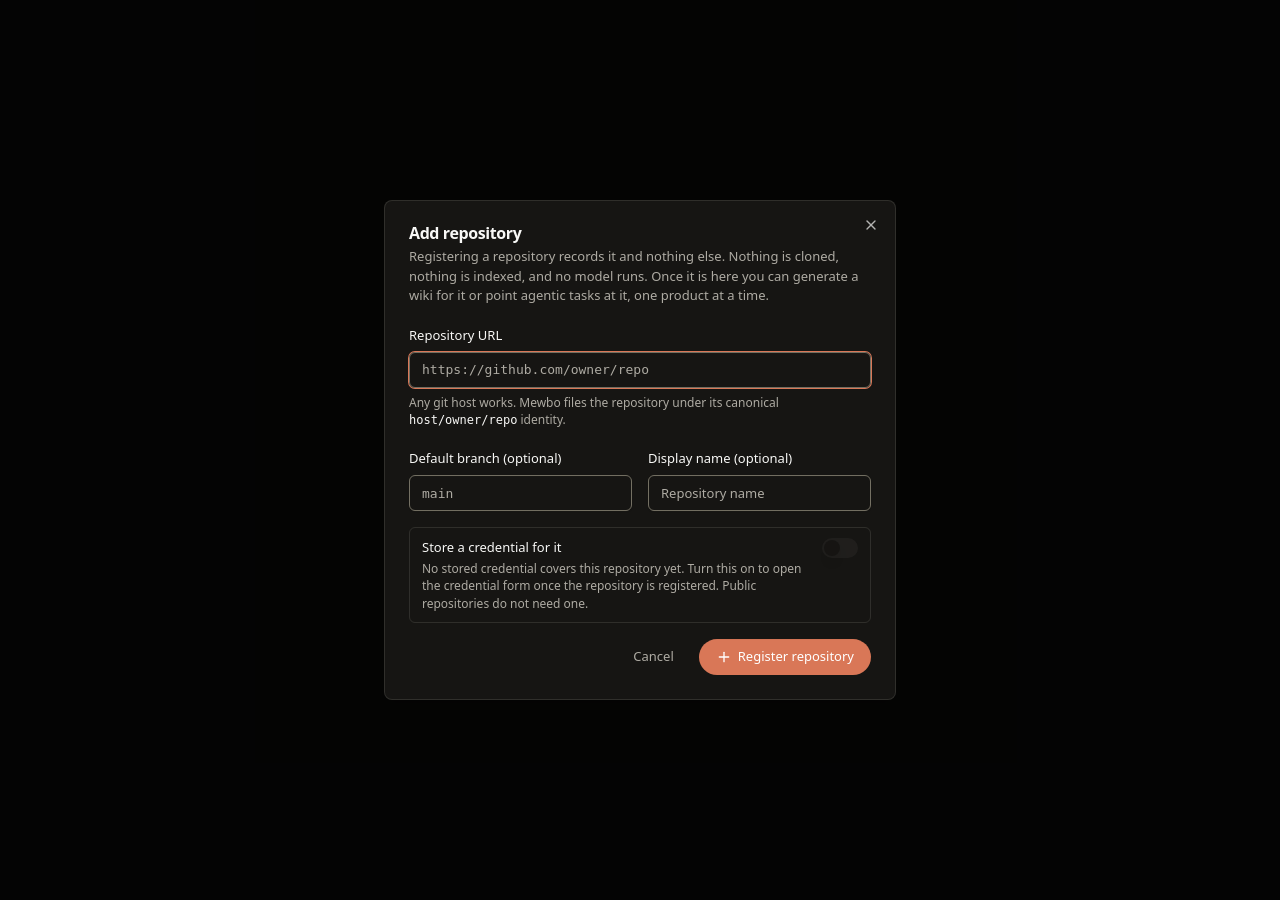
Test: AddRepositoryDialog › an empty URL is rejected before any request is made
The image size is (1280, 900).
Click the button "Register repository" at (785, 657), box [699, 639, 871, 675]
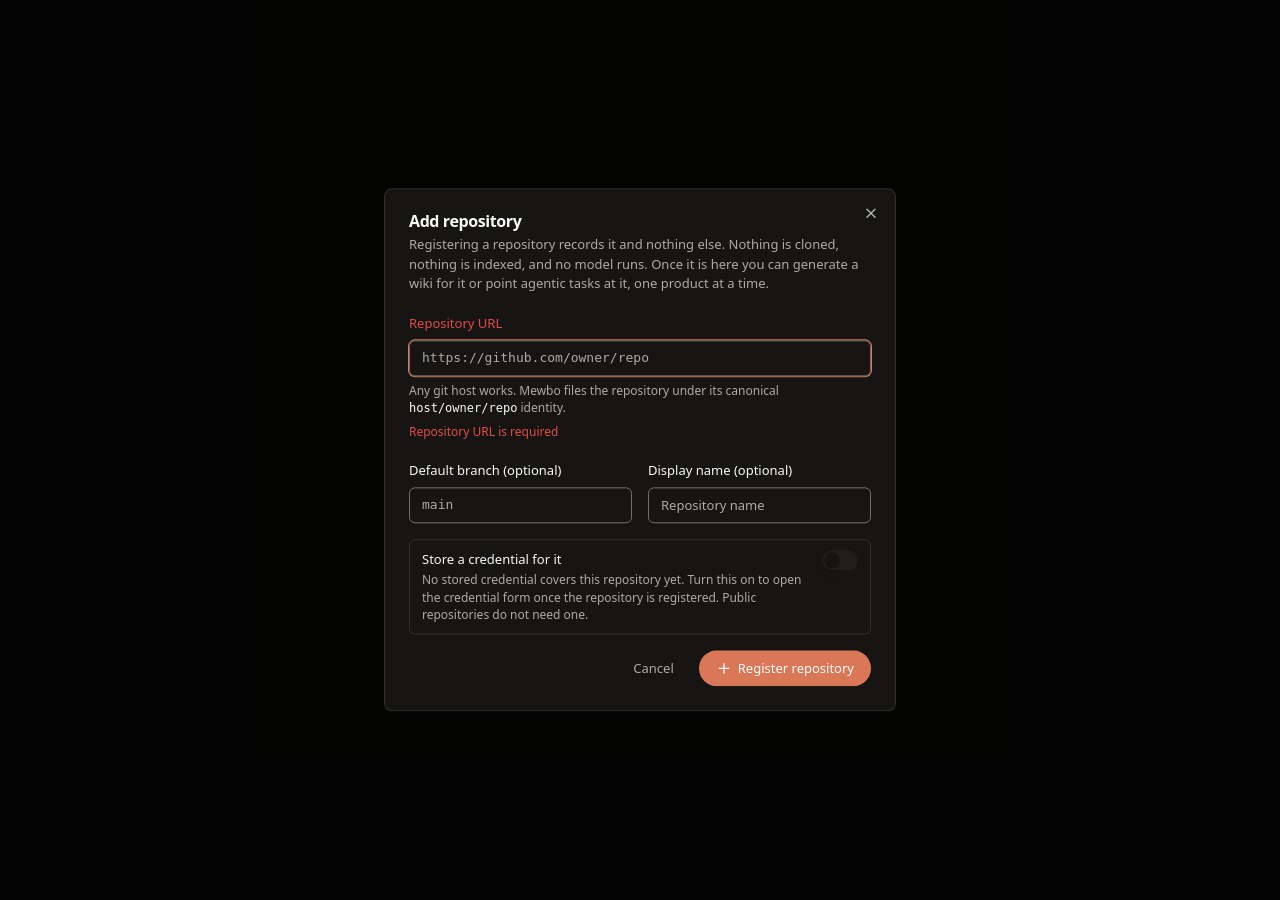
Expected: the text "Repository URL is required" is shown, [409, 424, 558, 441]
